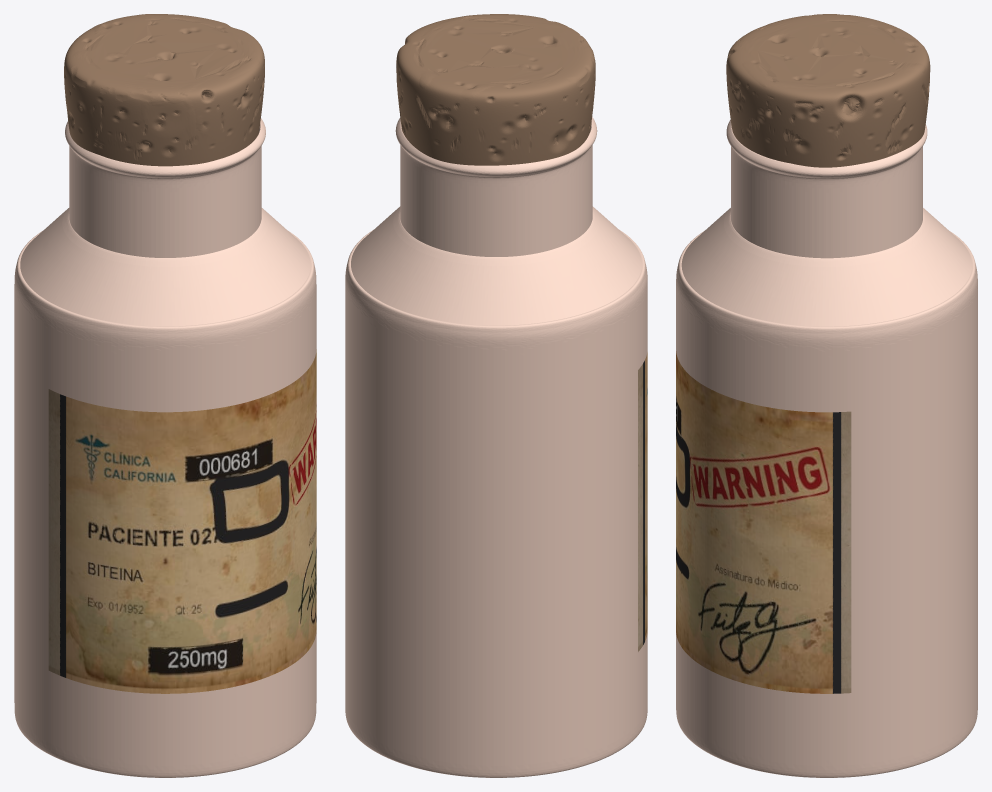
3 views of the same model, side by side, from view 1: azimuth 30°, elevation 25°; view 2: azimuth 150°, elevation 25°; view 3: azimuth 270°, elevation 25° (orthographic).
Visible parts, largest first — view 1: bottle.010, Cork.010; view 2: bottle.010, Cork.010; view 3: bottle.010, Cork.010.
Part boxes in pixels (box(x1,y1,x2,y2)): bottle.010: box(14, 118, 316, 777); Cork.010: box(64, 14, 264, 166); bottle.010: box(345, 117, 647, 777); Cork.010: box(396, 14, 595, 165); bottle.010: box(676, 120, 977, 777); Cork.010: box(726, 14, 930, 167).
Size of the model in its own units: 0.0596 by 0.1445 by 0.0596.
5 materials, 1 textured.
